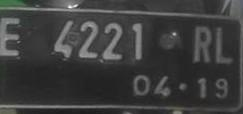clone-license-plate: (0, 7, 241, 111)
